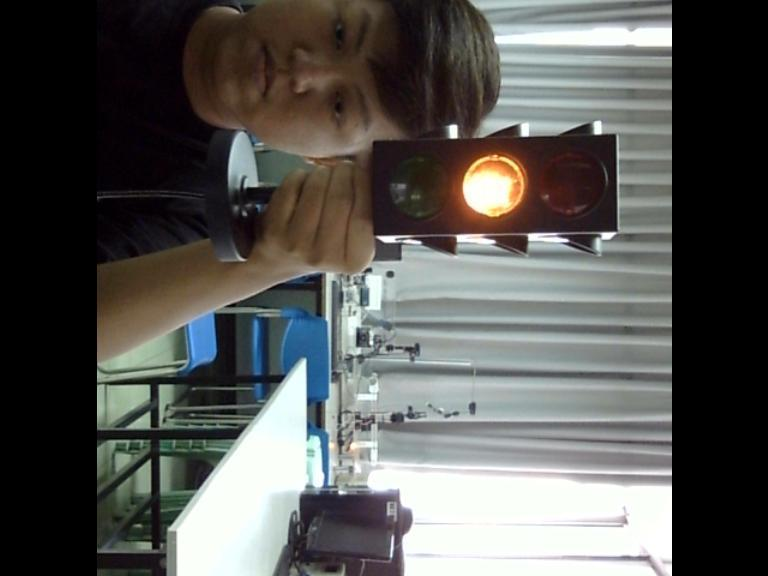yellow: (455, 142, 537, 230)
